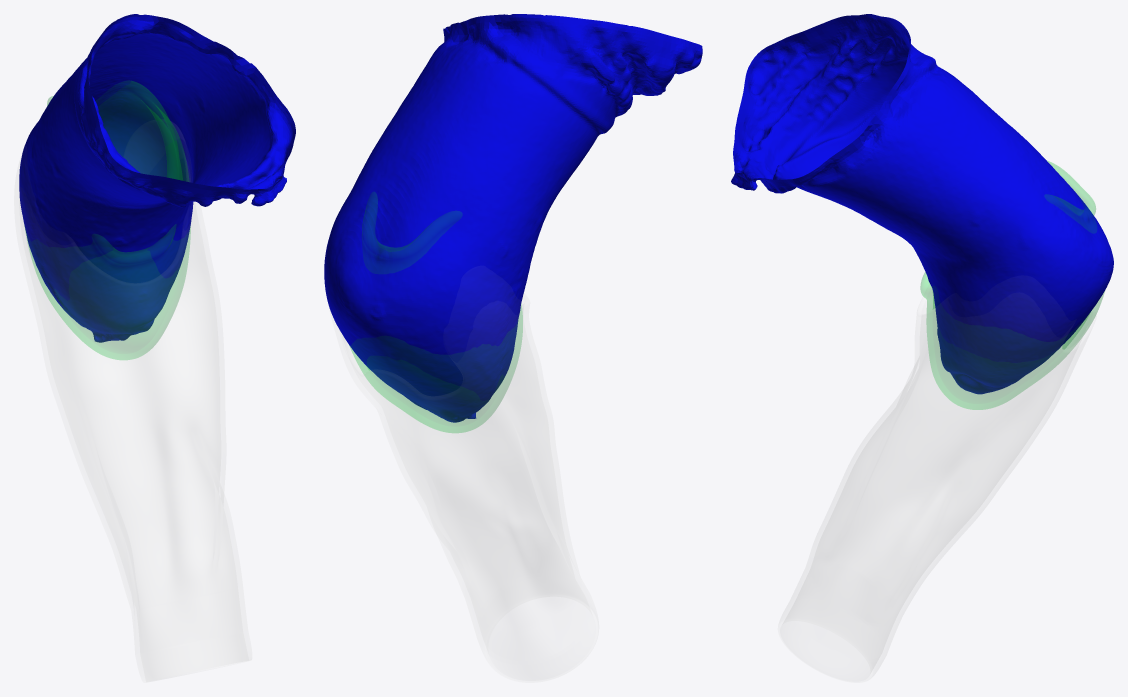
File: Buter1.glb
3 views of the same model, side by side, from view 1: azimuth 30°, elevation 25°; view 2: azimuth 150°, elevation 25°; view 3: azimuth 270°, elevation 25° (orthographic). The views are drawn at different scales.
Parts seen in each view (by area): view 1: Scan, OS V3 Pom, IS V3 max Pom; view 2: Scan, OS V3 Pom, IS V3 max Pom; view 3: Scan, OS V3 Pom, IS V3 max Pom.
Part boxes in pixels (x1,y1,x2,y2): Scan: (19,14,295,342); OS V3 Pom: (19,198,248,681); IS V3 max Pom: (25,81,190,359); Scan: (324,14,702,422); OS V3 Pom: (342,303,591,653); IS V3 max Pom: (349,192,522,432); Scan: (731,14,1113,394); OS V3 Pom: (783,314,1082,673); IS V3 max Pom: (920,161,1104,409).
Size of the model in its own units: 120 by 345 by 191.
